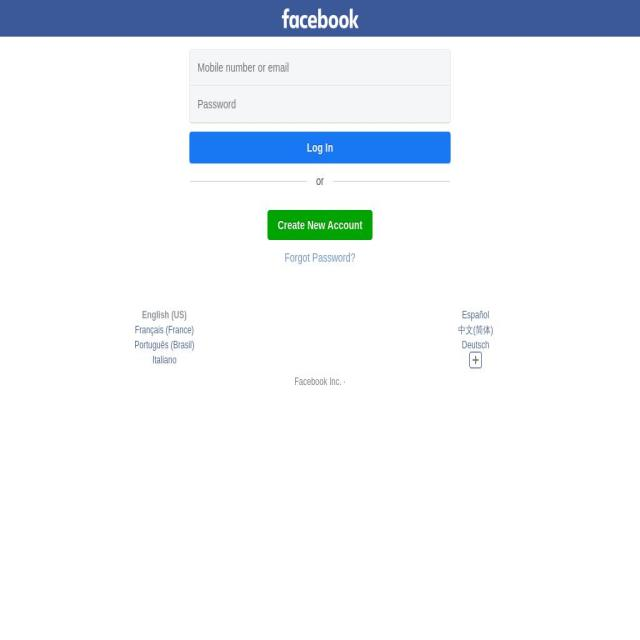button: (190, 132, 450, 162), (320, 352, 631, 368), (268, 210, 372, 240), (281, 9, 359, 23)
field: (190, 86, 450, 122), (190, 50, 450, 85)
image: (472, 355, 479, 365)
link: (281, 8, 359, 28), (284, 251, 356, 264), (134, 324, 194, 336), (134, 339, 194, 351), (458, 324, 493, 336), (462, 309, 490, 321), (462, 339, 489, 351), (152, 354, 176, 366)
text: (142, 309, 187, 321), (307, 138, 333, 158), (294, 376, 341, 387), (316, 174, 324, 188)
